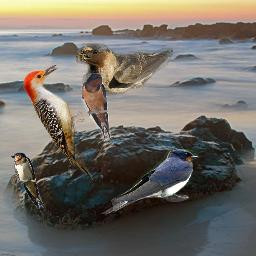Swallow: (101, 149, 199, 217), (76, 43, 174, 96), (81, 73, 111, 141), (10, 152, 44, 209)
Woodpecker: (23, 64, 93, 181)
